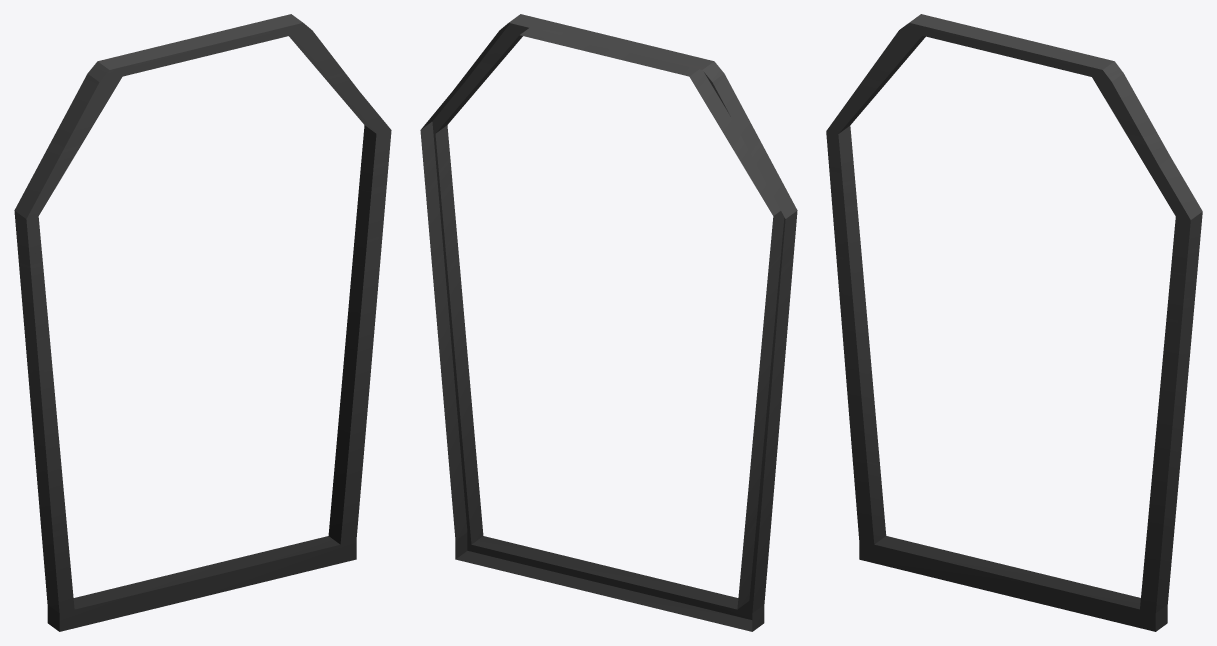
Rendered from cornice_finestra_lvl4_piccola.fbx.
3 renders of one model, left to right at view 1: azimuth 30°, elevation 25°; view 2: azimuth 150°, elevation 25°; view 3: azimuth 330°, elevation 25°, orthographic.
Visible parts, largest first — view 1: pCube7; view 2: pCube7; view 3: pCube7.
Part boxes in pixels (x1,y1,x2,y2): pCube7: (14, 14, 391, 631); pCube7: (420, 14, 797, 631); pCube7: (826, 14, 1202, 631).
Size of the model in its own units: 511 by 736 by 29.09.
